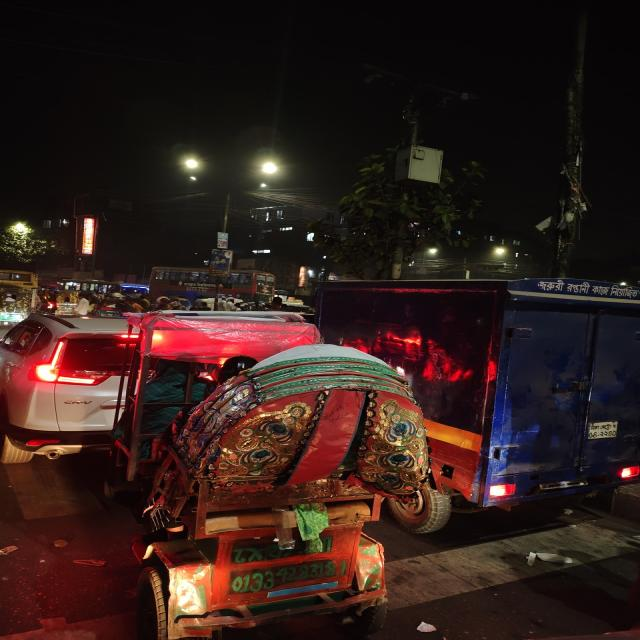car: (0, 314, 135, 471)
rickshaw: (99, 341, 429, 640), (353, 374, 441, 536)
truck: (354, 270, 640, 533)
